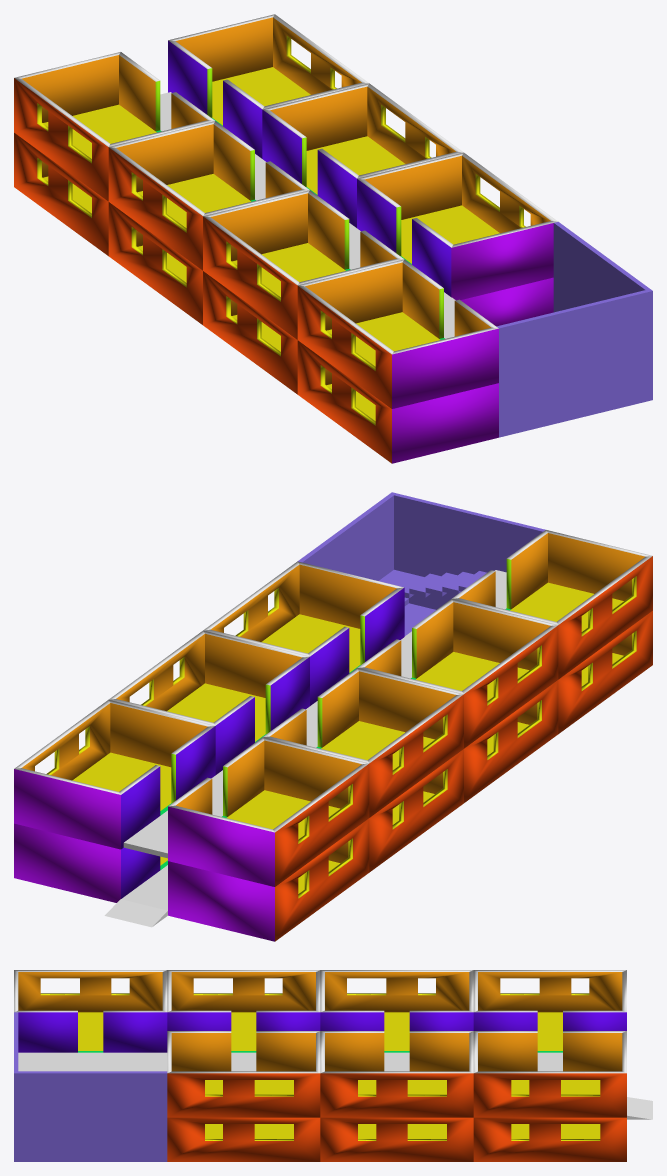
File: buildNoRoofDifferentObjects.fbx
3 views of the same model, one above another, from view 1: azimuth 30°, elevation 25°; view 2: azimuth 150°, elevation 25°; view 3: azimuth 270°, elevation 25° (orthographic). The views are drawn at different scales.
Visible parts, largest first — view 1: Куб.011, Куб.005, Куб.010, Куб.014, Куб.016, Куб.015, Куб.012, Куб.013, Куб.004, Куб.001, Куб.002, Куб.003 (+2 smaller); view 2: Куб.016, Куб.013, Куб.011, Куб.015, Куб.005, Куб.014, Куб.012, Куб.010, Куб.003, Куб.006, Куб.001, Куб.002 (+4 smaller); view 3: Куб.011, Куб.010, Куб.012, Куб.013, Куб.005, Куб.016, Куб.014, Куб.015, Куб.007, Куб.006, Куб.008, Куб.009 (+1 smaller).
Part boxes in pixels (left/top/right/bottom): Куб.011: left=496, top=221, right=652, bottom=437; Куб.005: left=297, top=259, right=498, bottom=408; Куб.010: left=357, top=152, right=557, bottom=300; Куб.014: left=203, top=190, right=403, bottom=339; Куб.016: left=14, top=52, right=214, bottom=201; Куб.015: left=108, top=121, right=309, bottom=270; Куб.012: left=262, top=83, right=463, bottom=227; Куб.013: left=168, top=14, right=368, bottom=158; Куб.004: left=297, top=340, right=498, bottom=463; Куб.001: left=203, top=271, right=297, bottom=394; Куб.002: left=108, top=202, right=202, bottom=324; Куб.003: left=14, top=133, right=108, bottom=255; Куб.016: left=168, top=737, right=369, bottom=886; Куб.013: left=14, top=699, right=215, bottom=849; Куб.011: left=298, top=492, right=545, bottom=635; Куб.015: left=263, top=668, right=463, bottom=817; Куб.005: left=452, top=530, right=652, bottom=679; Куб.014: left=357, top=599, right=558, bottom=748; Куб.012: left=109, top=630, right=309, bottom=774; Куб.010: left=203, top=561, right=404, bottom=705; Куб.003: left=168, top=818, right=369, bottom=941; Куб.006: left=14, top=823, right=167, bottom=902; Куб.001: left=464, top=680, right=558, bottom=802; Куб.002: left=369, top=749, right=463, bottom=872; Куб.011: left=14, top=1012, right=167, bottom=1161; Куб.010: left=167, top=1031, right=320, bottom=1117; Куб.012: left=320, top=1031, right=473, bottom=1117; Куб.013: left=473, top=1031, right=626, bottom=1117; Куб.005: left=14, top=970, right=167, bottom=1052; Куб.016: left=473, top=970, right=626, bottom=1052; Куб.014: left=167, top=970, right=320, bottom=1052; Куб.015: left=320, top=970, right=473, bottom=1052; Куб.007: left=320, top=1117, right=473, bottom=1161; Куб.006: left=473, top=1117, right=626, bottom=1161; Куб.008: left=167, top=1117, right=320, bottom=1161; Куб.009: left=18, top=1052, right=562, bottom=1071.
Size of the model in its own units: 1100 by 440 by 2878.
